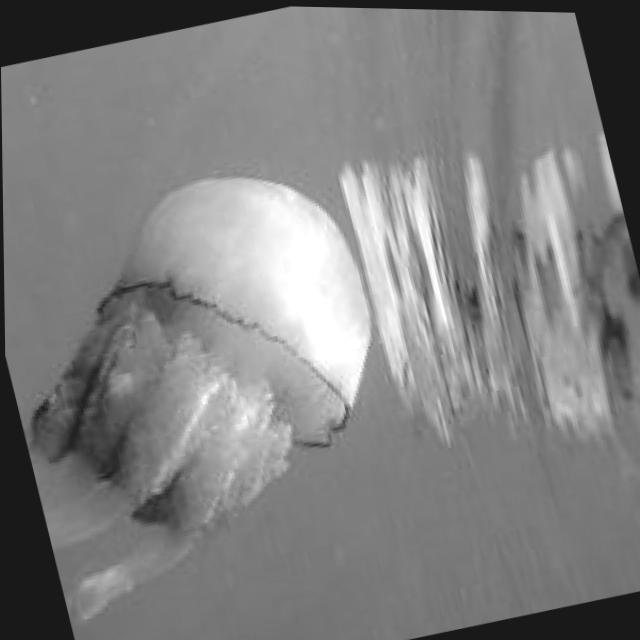Box-jellyfish: (2, 140, 430, 626)
